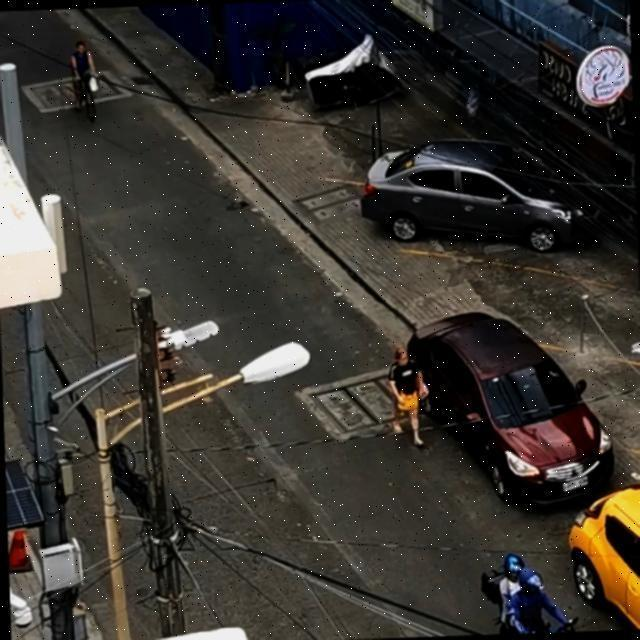Motorcycle: (466, 535, 596, 635), (0, 10, 32, 103)
